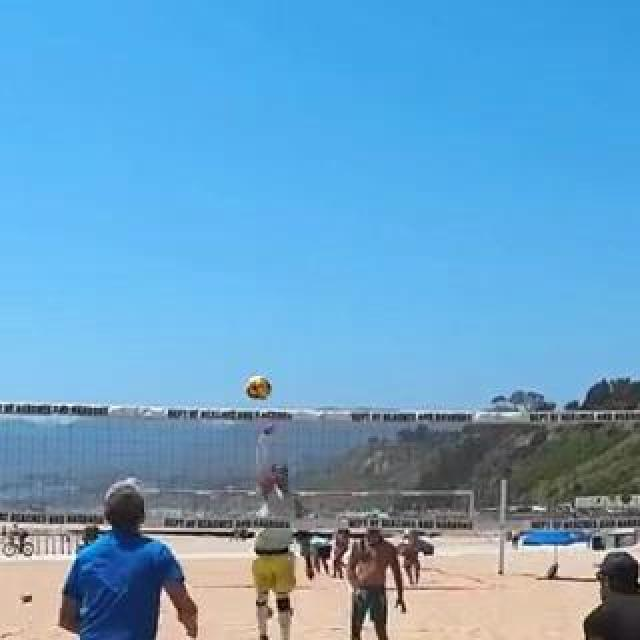volleyball: (247, 376, 273, 402), (20, 592, 34, 604)
